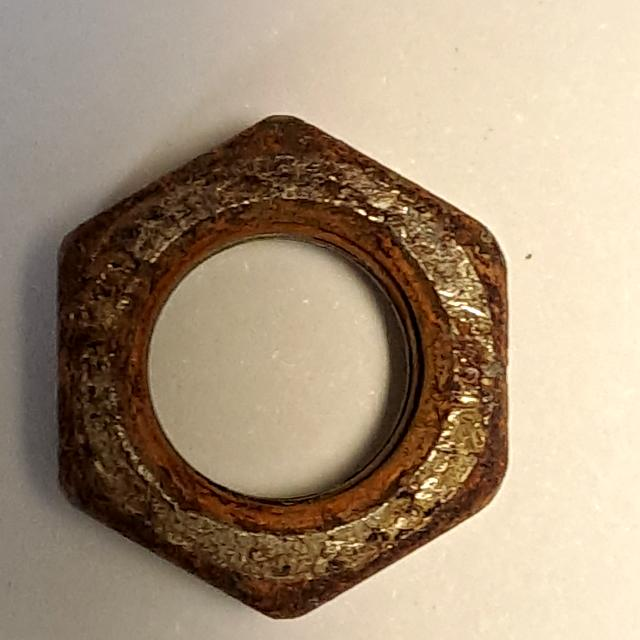Rust: (40, 81, 524, 631)
